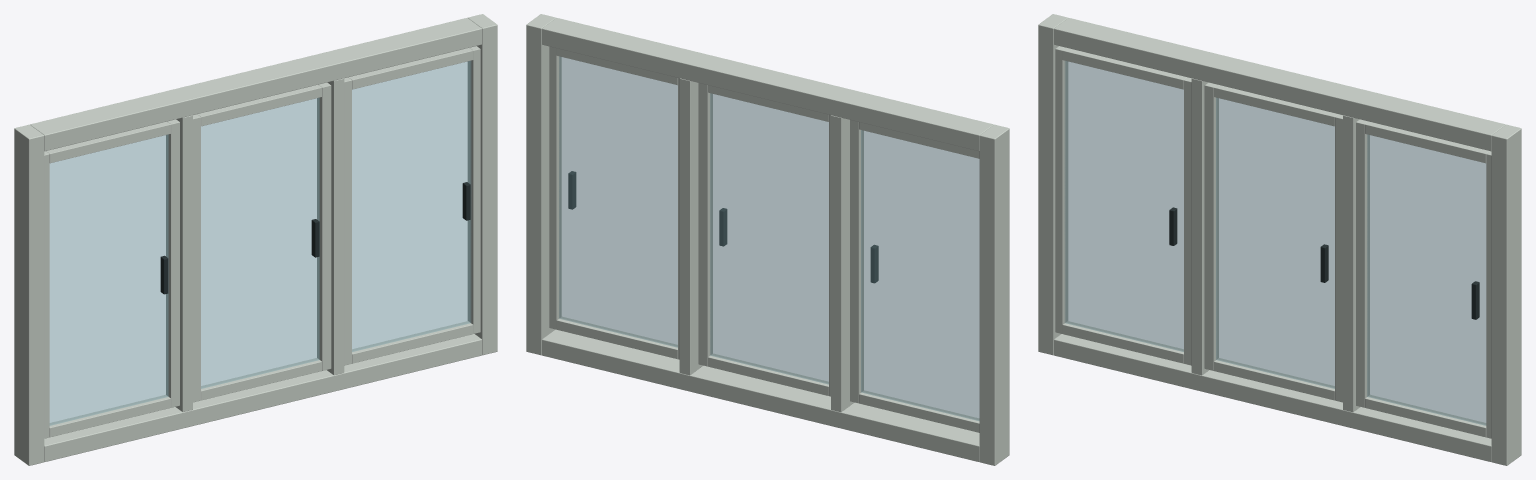
The model's file is hdb-corridor-window.glb.
3 renders of one model, left to right at view 1: azimuth 30°, elevation 25°; view 2: azimuth 150°, elevation 25°; view 3: azimuth 330°, elevation 25°, orthographic.
Visible parts, largest first — view 1: GLASS_Leaf_0, GLASS_Leaf_2, GLASS_Leaf_1, FRAME_Rail_1.17, FRAME_Jamb_-0.87, FRAME_Rail_0.03, FRAME_Jamb_0.87, FRAME_Mullion_0.29, SASH_1_Side_0.25, FRAME_Mullion_-0.29, SASH_0_Side_-0.32999999999999996, SASH_2_Side_0.83 (+9 smaller); view 2: GLASS_Leaf_1, GLASS_Leaf_0, GLASS_Leaf_2, FRAME_Rail_1.17, FRAME_Rail_0.03, FRAME_Jamb_-0.87, FRAME_Jamb_0.87, FRAME_Mullion_0.29, FRAME_Mullion_-0.29, SASH_1_Side_0.25, SASH_0_Side_-0.32999999999999996, SASH_2_Side_0.83 (+8 smaller); view 3: GLASS_Leaf_2, GLASS_Leaf_0, GLASS_Leaf_1, FRAME_Rail_1.17, FRAME_Jamb_0.87, FRAME_Rail_0.03, FRAME_Jamb_-0.87, SASH_1_Side_-0.25, FRAME_Mullion_-0.29, SASH_2_Side_0.32999999999999996, FRAME_Mullion_0.29, SASH_0_Side_-0.83 (+9 smaller).
Part boxes in pixels (x1,y1,x2,y2): GLASS_Leaf_0: (49,134,168,425); GLASS_Leaf_2: (352,61,471,351); GLASS_Leaf_1: (201,98,319,388); FRAME_Rail_1.17: (30,18,481,151); FRAME_Jamb_-0.87: (14,124,44,465); FRAME_Rail_0.03: (44,334,481,461); FRAME_Jamb_0.87: (467,14,497,355); FRAME_Mullion_0.29: (327,78,344,375); SASH_1_Side_0.25: (317,82,331,370); FRAME_Mullion_-0.29: (175,115,192,411); SASH_0_Side_-0.32999999999999996: (166,119,179,407); SASH_2_Side_0.83: (468,46,480,333); GLASS_Leaf_1: (710,93,828,384); GLASS_Leaf_0: (861,130,979,420); GLASS_Leaf_2: (559,56,677,347); FRAME_Rail_1.17: (542,18,993,151); FRAME_Rail_0.03: (542,329,979,461); FRAME_Jamb_-0.87: (979,124,1009,465); FRAME_Jamb_0.87: (526,14,555,355); FRAME_Mullion_0.29: (679,78,703,375); FRAME_Mullion_-0.29: (831,115,854,411); SASH_1_Side_0.25: (698,83,712,366); SASH_0_Side_-0.32999999999999996: (850,120,863,403); SASH_2_Side_0.83: (549,46,561,329); GLASS_Leaf_2: (1367,134,1486,425); GLASS_Leaf_0: (1064,61,1183,351); GLASS_Leaf_1: (1216,97,1334,388); FRAME_Rail_1.17: (1054,18,1505,151); FRAME_Jamb_0.87: (1491,124,1521,465); FRAME_Rail_0.03: (1054,334,1491,461); FRAME_Jamb_-0.87: (1038,14,1068,355); SASH_1_Side_-0.25: (1204,82,1218,370); FRAME_Mullion_-0.29: (1191,78,1208,375); SASH_2_Side_0.32999999999999996: (1356,119,1369,407); FRAME_Mullion_0.29: (1343,115,1360,411); SASH_0_Side_-0.83: (1055,46,1067,333).
Bounding box in the file's own units: 1.8 × 1.2 × 0.1125.
